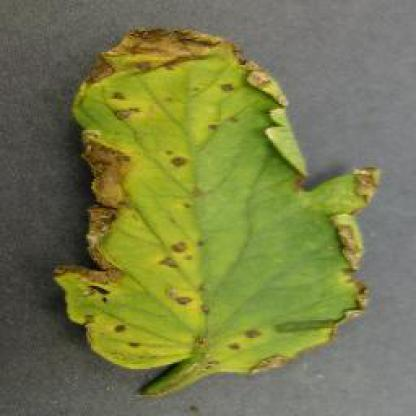bad leaf: (51, 26, 352, 391)
